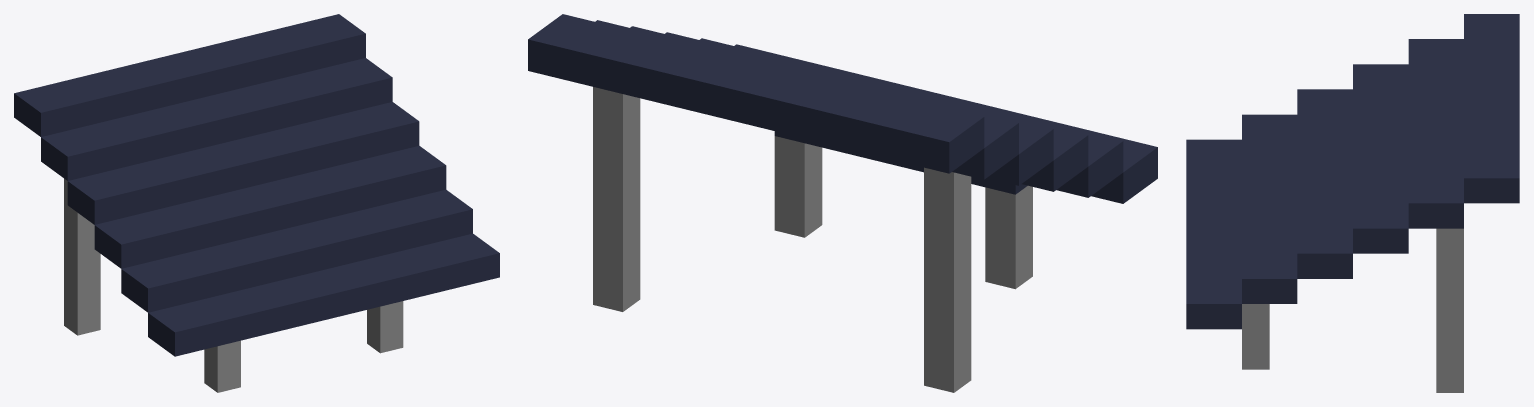
The model's file is TechEnergy.glb.
The picture shows the model from 3 angles, left to right: view 1: azimuth 30°, elevation 25°; view 2: azimuth 150°, elevation 25°; view 3: azimuth 270°, elevation 25°; orthographic projection. The views are drawn at different scales.
Visible parts, largest first — view 1: VoxelModel; view 2: VoxelModel; view 3: VoxelModel.
Boxes of the visible parts, x1,y1,x2,y2 form: VoxelModel: (14,14,499,392); VoxelModel: (528,14,1157,392); VoxelModel: (1186,14,1519,392).
Bounding box in the file's own units: 14 × 9 × 12.
